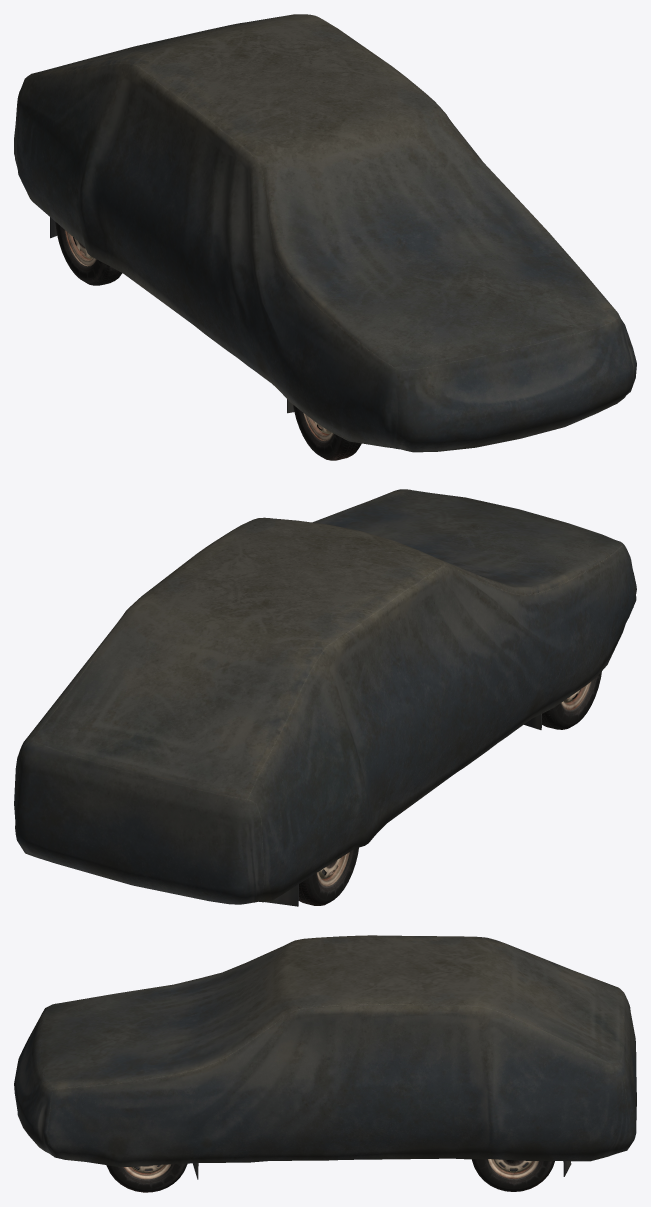
File: asset.gltf
3 renders of one model, top to bottom at view 1: azimuth 30°, elevation 25°; view 2: azimuth 150°, elevation 25°; view 3: azimuth 270°, elevation 25°, orthographic. The views are drawn at different scales.
Visible parts, largest first — view 1: covered_car, covered_car_wheel_03, covered_car_wheel_02; view 2: covered_car, covered_car_wheel_03, covered_car_wheel_02; view 3: covered_car, covered_car_wheel_04, covered_car_wheel_01.
Part boxes in pixels (x1,y1,x2,y2): covered_car: (14, 14, 636, 452); covered_car_wheel_03: (55, 222, 122, 285); covered_car_wheel_02: (293, 405, 361, 460); covered_car: (14, 489, 636, 906); covered_car_wheel_03: (298, 847, 358, 905); covered_car_wheel_02: (542, 671, 601, 729); covered_car: (14, 935, 636, 1179); covered_car_wheel_04: (472, 1159, 554, 1191); covered_car_wheel_01: (106, 1163, 187, 1192).
Bounding box in the file's own units: 1.79 × 1.41 × 4.38.
2 materials, 2 textured.
